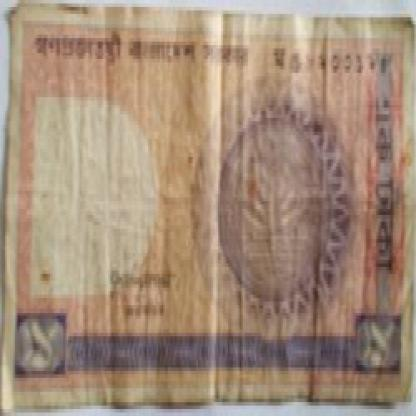One Taka: (373, 90, 406, 277), (17, 312, 66, 374), (358, 316, 401, 375)
